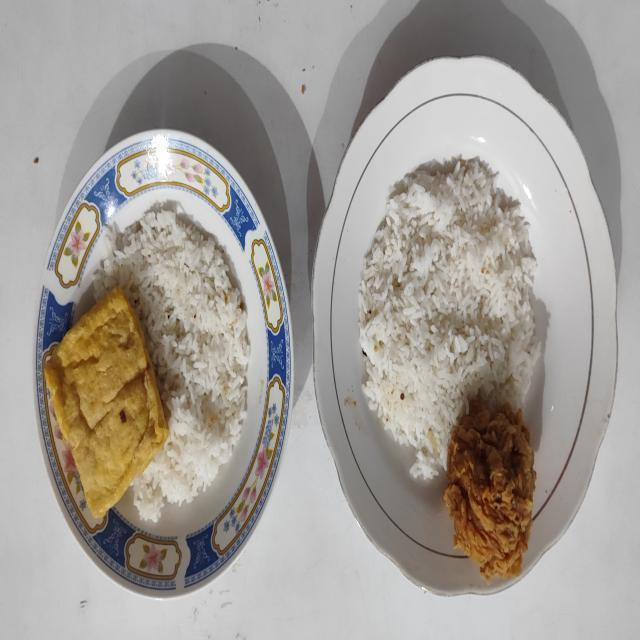nasi_putih: (358, 154, 542, 480), (90, 201, 250, 521)
tahu_goreng: (44, 286, 170, 516)
